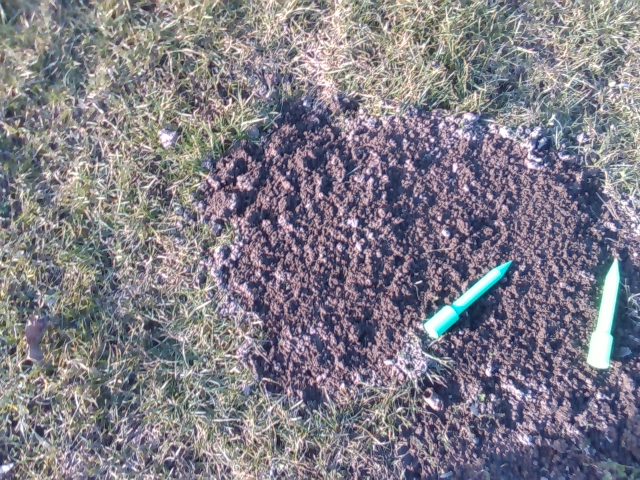Probe: (423, 258, 516, 338), (583, 254, 624, 374)
